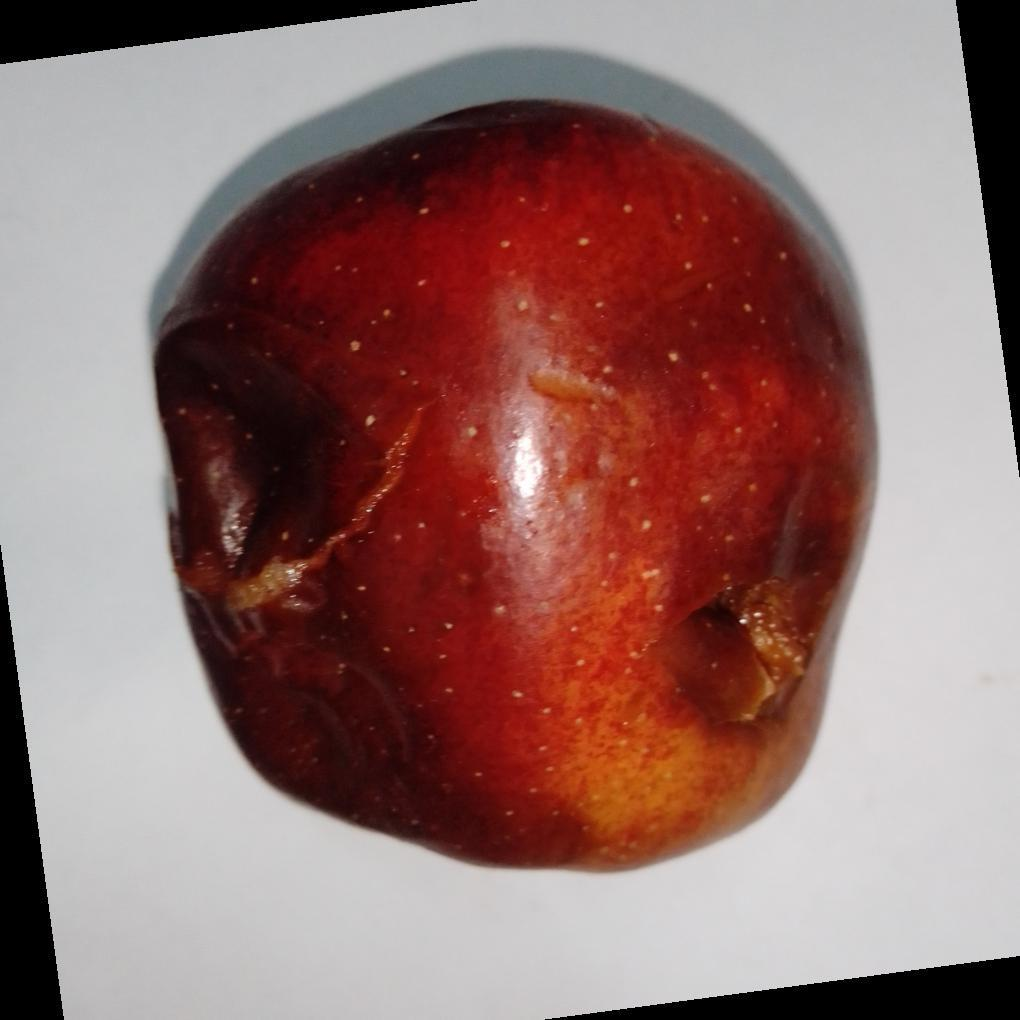FreshOrange: (148, 98, 881, 878)
